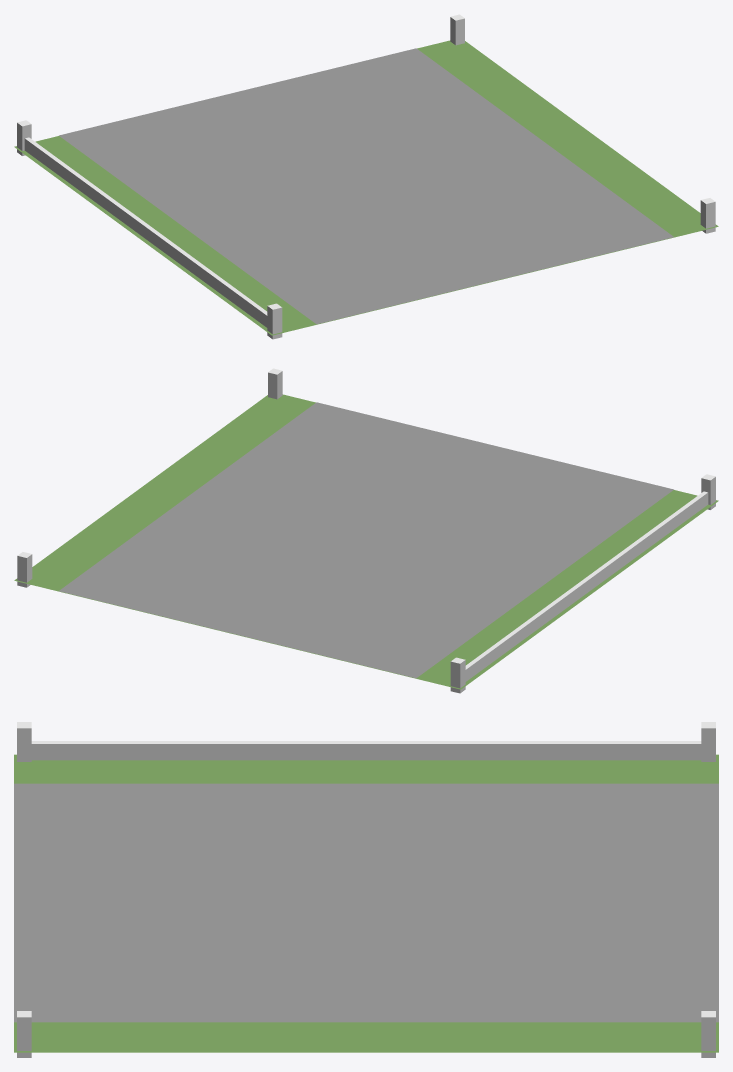
Rendered from tile_for_home_1x1_011.glb.
3 renders of one model, top to bottom at view 1: azimuth 30°, elevation 25°; view 2: azimuth 150°, elevation 25°; view 3: azimuth 270°, elevation 25°, orthographic. The views are drawn at different scales.
Parts seen in each view (by area): view 1: tile_for_home_1x1_011; view 2: tile_for_home_1x1_011; view 3: tile_for_home_1x1_011.
Boxes of the visible parts, box(x1,y1,x2,y2) form: tile_for_home_1x1_011: box(14, 14, 718, 339); tile_for_home_1x1_011: box(14, 368, 718, 693); tile_for_home_1x1_011: box(14, 722, 718, 1057).
Size of the model in its own units: 8 by 0.5088 by 8.
1 material, 1 textured.
